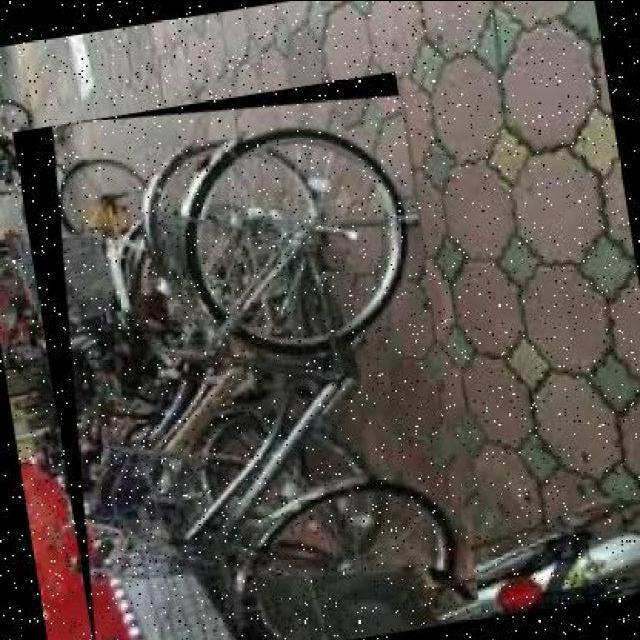bicycle: (12, 70, 484, 640)
